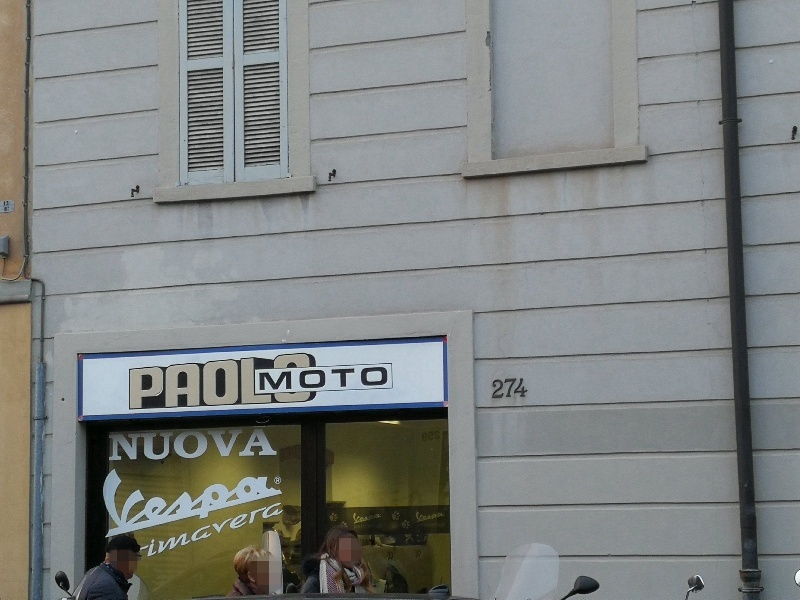text: (273, 470, 289, 542), (113, 470, 128, 542), (129, 470, 144, 542), (145, 470, 160, 542), (161, 470, 176, 542), (177, 470, 192, 542), (193, 470, 208, 542), (209, 470, 224, 542), (225, 470, 240, 542), (241, 470, 256, 542), (257, 470, 272, 542), (129, 350, 144, 411), (145, 350, 160, 411), (161, 350, 176, 411), (177, 350, 192, 411), (193, 350, 208, 411), (209, 350, 224, 411), (225, 350, 240, 411), (241, 350, 256, 411), (257, 350, 272, 411), (273, 350, 288, 411), (289, 350, 304, 411), (100, 470, 112, 542), (161, 502, 176, 559), (177, 502, 192, 559), (193, 502, 208, 559), (209, 502, 224, 559), (225, 502, 240, 559), (241, 502, 256, 559), (257, 502, 272, 559), (305, 350, 317, 411), (273, 502, 284, 559), (151, 502, 160, 559), (113, 428, 128, 462), (129, 428, 144, 462), (145, 428, 160, 462), (161, 428, 176, 462), (177, 428, 192, 462), (193, 428, 208, 462), (209, 428, 224, 462), (225, 428, 240, 462), (241, 428, 256, 462), (257, 428, 272, 462), (273, 366, 288, 392), (289, 366, 304, 392), (305, 366, 320, 392), (321, 366, 336, 392), (337, 366, 352, 392), (353, 366, 368, 392), (369, 366, 384, 392), (513, 377, 529, 399), (259, 366, 272, 392), (497, 377, 512, 399), (273, 428, 280, 462), (417, 511, 432, 523), (353, 513, 368, 524), (433, 511, 446, 523), (369, 513, 382, 524), (421, 430, 432, 442), (274, 477, 288, 485), (109, 428, 112, 462), (433, 430, 441, 442), (492, 377, 496, 399), (385, 366, 388, 392)
